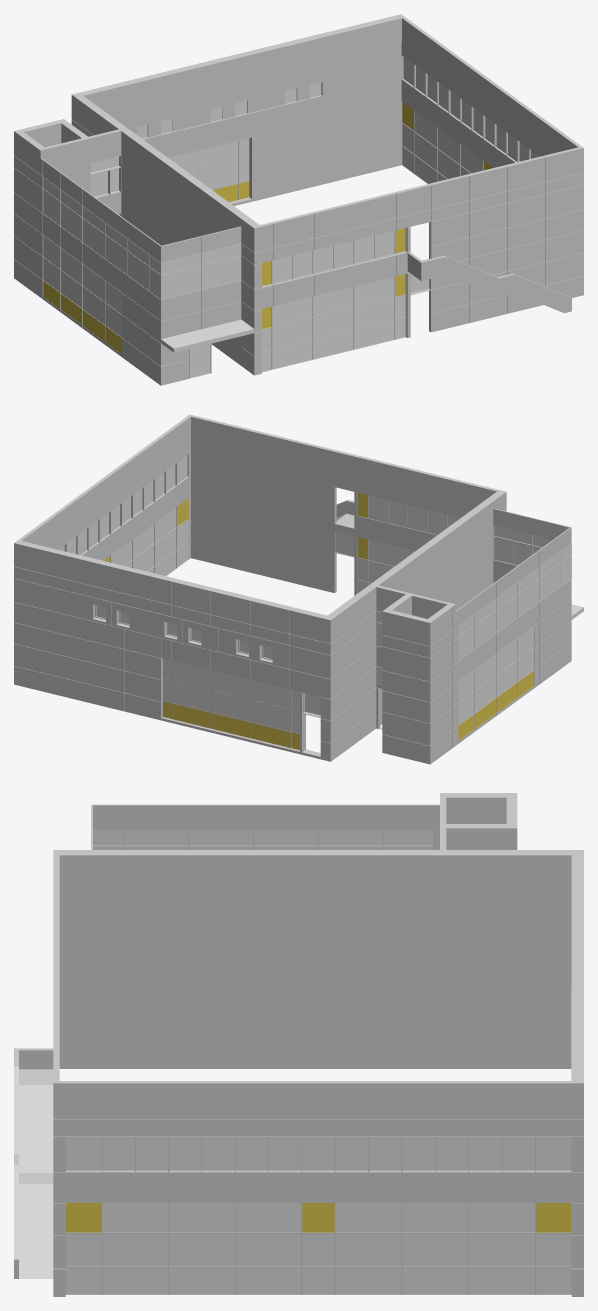
The model's file is POI.fbx.
The picture shows the model from 3 angles, top to bottom: view 1: azimuth 30°, elevation 25°; view 2: azimuth 150°, elevation 25°; view 3: azimuth 270°, elevation 25°; orthographic projection. The views are drawn at different scales.
Parts seen in each view (by area): view 1: Cube; view 2: Cube; view 3: Cube.
Part boxes in pixels (x1,y1,x2,y2): Cube: [14, 14, 583, 385]; Cube: [14, 414, 583, 764]; Cube: [14, 793, 583, 1296].
Bounding box in the file's own units: 2594 × 889 × 2152.
